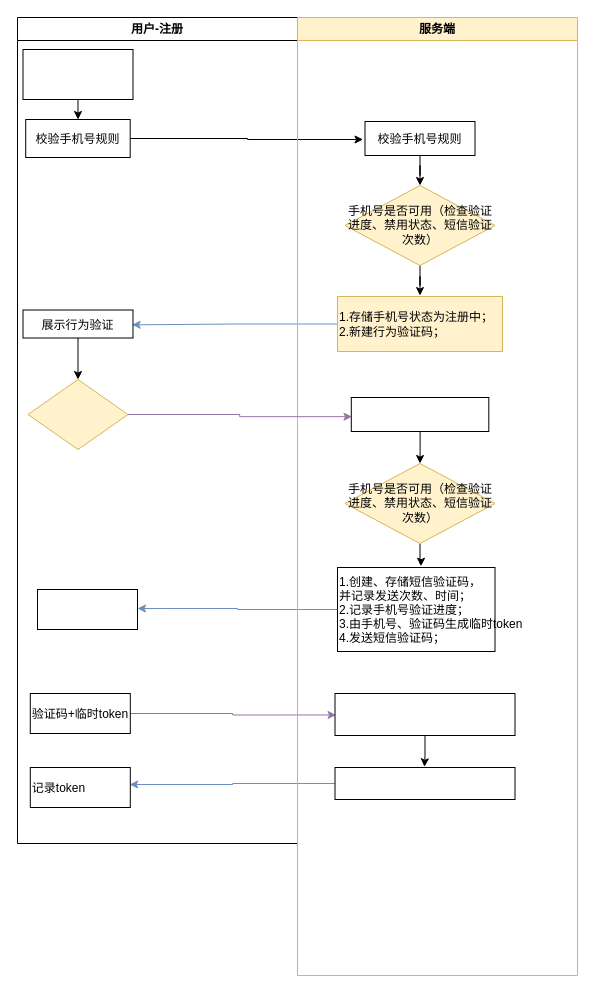
Some shapes in this 595 by 993 pixel diagram are drawn without their labels. Each missing label, with the centre of its shape:
"1,检验token是否正确； 2.检验验证码；" belongs at (424,714).
"1.修改手机验证进度； 2.新增用户，创建、记录token" belongs at (424,783).
"校验行为验证正确、过期" belongs at (419,414).
"行为验证是否成功" belongs at (77,414).
"记录临时token" belongs at (87,609).
"输入手机号， 点击获取验证码" belongs at (77,74).
